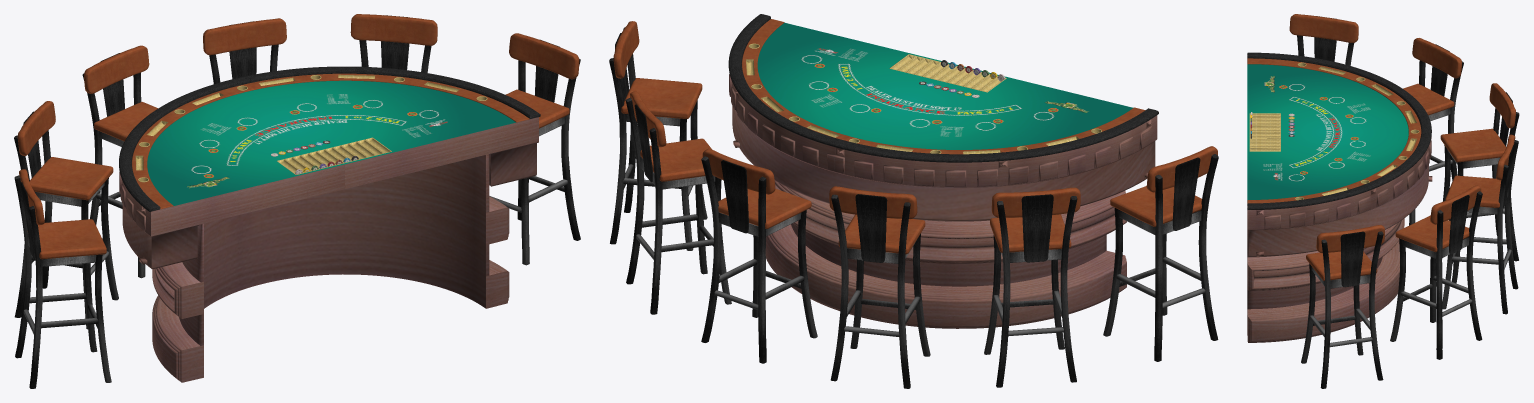
File: blackjack_table.glb
3 renders of one model, left to right at view 1: azimuth 30°, elevation 25°; view 2: azimuth 150°, elevation 25°; view 3: azimuth 270°, elevation 25°, orthographic. The views are drawn at different scales.
Visible parts, largest first — view 1: 3DSMeshMatrix (×8); view 2: 3DSMeshMatrix (×8); view 3: 3DSMeshMatrix (×8).
Part boxes in pixels (<box>): 3DSMeshMatrix (×8): <box>14,14,580,388</box>; 3DSMeshMatrix (×8): <box>609,14,1218,388</box>; 3DSMeshMatrix (×8): <box>1247,14,1519,388</box>.
Bounding box in the file's own units: 851 × 270 × 434.
4 materials, 4 textured.
